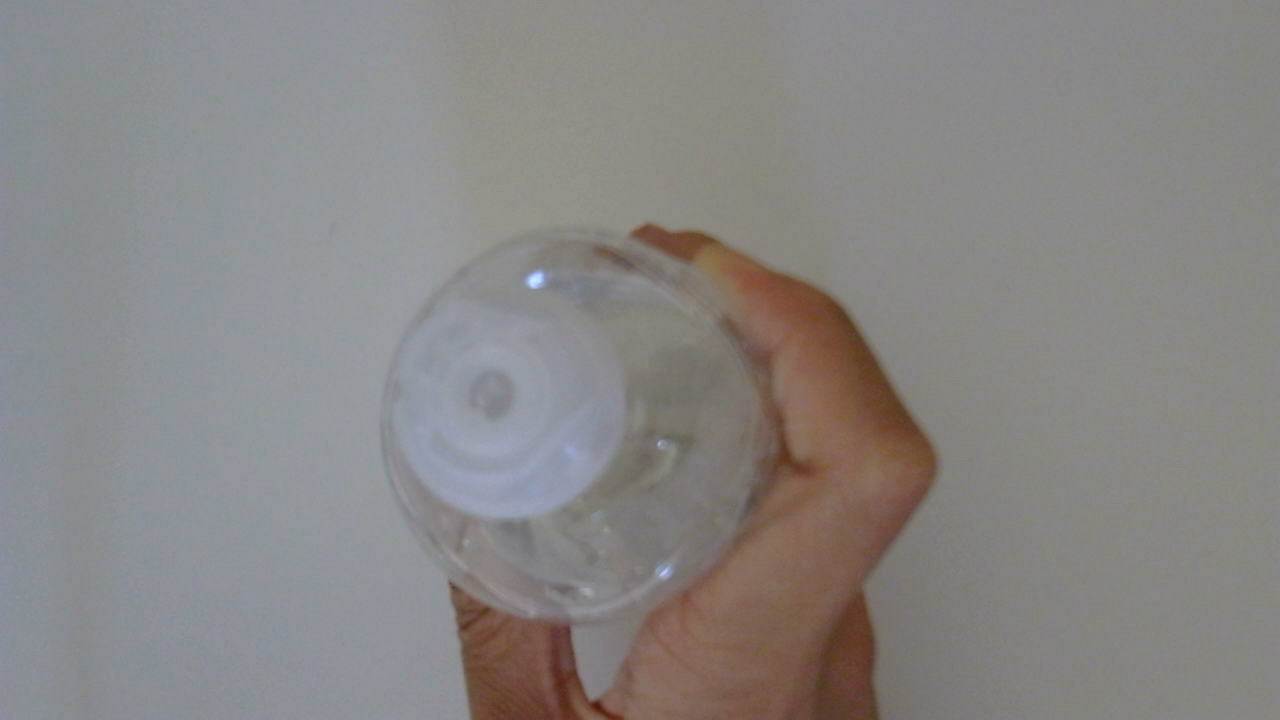Plastic Bottle: (376, 223, 796, 636)
